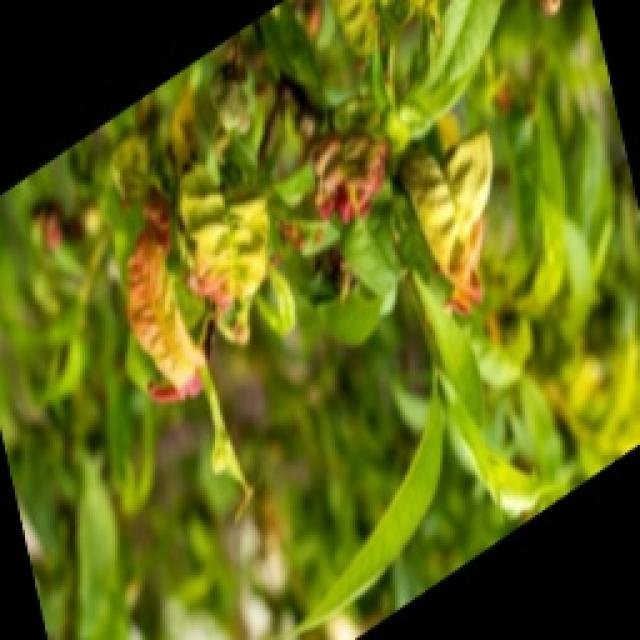peach_leaf_curl: (397, 128, 495, 318), (120, 192, 208, 402)
